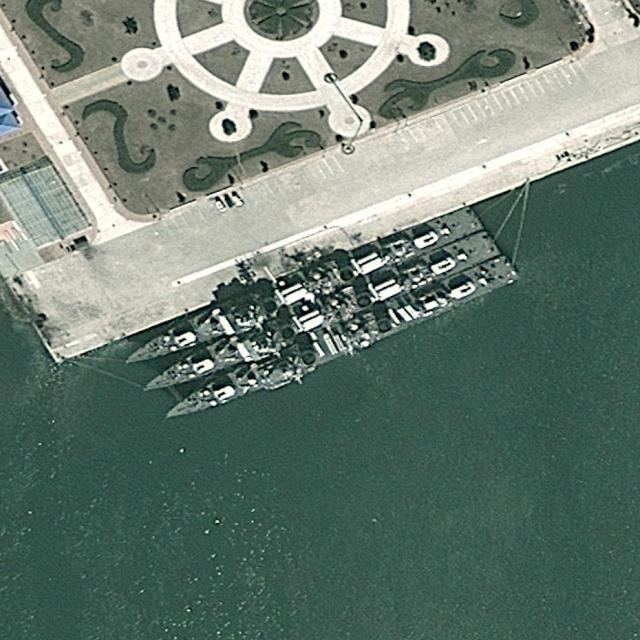Destroyer: (158, 255, 520, 427), (134, 228, 503, 396), (118, 205, 485, 370)
